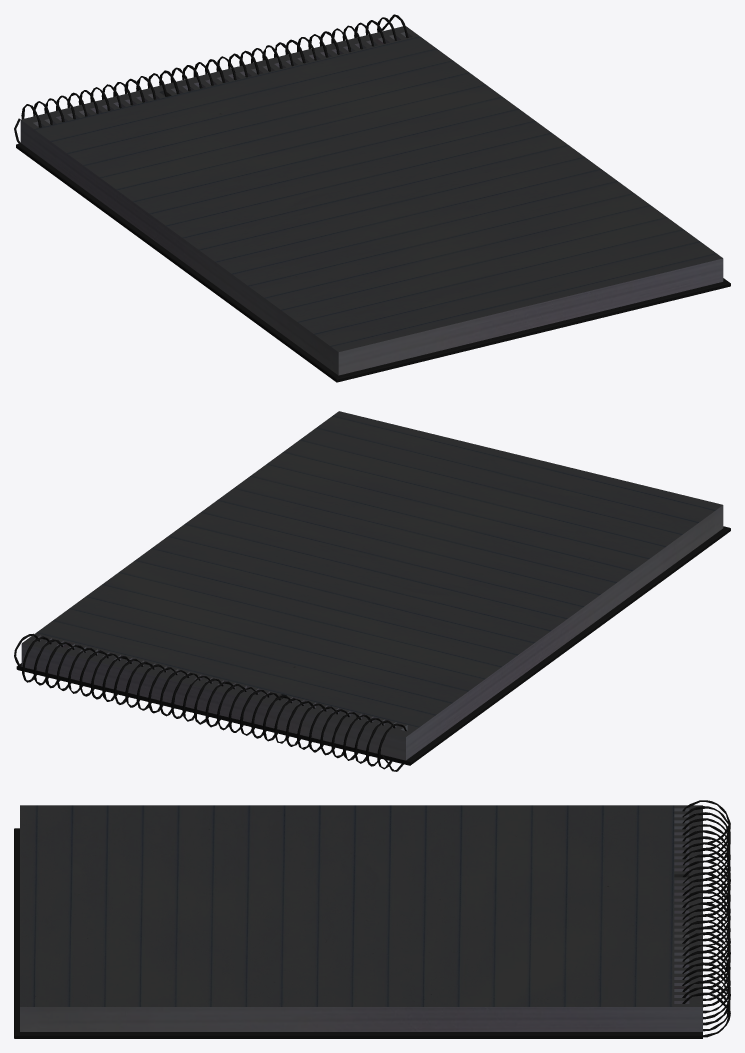
File: notepad.glb
3 views of the same model, one above another, from view 1: azimuth 30°, elevation 25°; view 2: azimuth 150°, elevation 25°; view 3: azimuth 270°, elevation 25° (orthographic). The views are drawn at different scales.
Parts seen in each view (by area): view 1: Paper, Cartonage, Binding; view 2: Paper, Binding, Cartonage; view 3: Paper, Binding, Cartonage.
Part boxes in pixels (x1,y1,x2,y2): Paper: (20, 26, 723, 375); Cartonage: (16, 143, 730, 382); Binding: (14, 14, 408, 143); Paper: (21, 411, 723, 760); Binding: (14, 633, 406, 771); Cartonage: (16, 526, 730, 765); Paper: (20, 805, 702, 1031); Binding: (682, 800, 730, 1037); Cartonage: (14, 828, 702, 1038).
Bounding box in the file's own units: 0.1061 × 0.0114 × 0.1554.
Materials: 4 (2 with a texture image).
